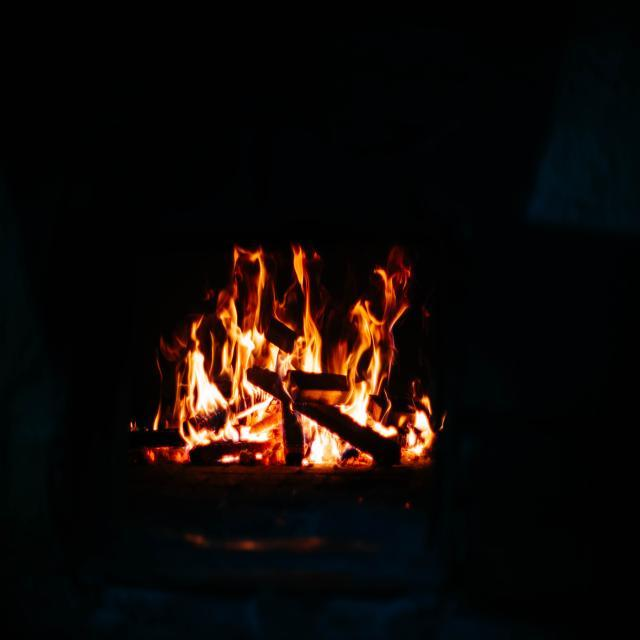Fire: (93, 39, 450, 482)
Smoke: (528, 8, 640, 236)
